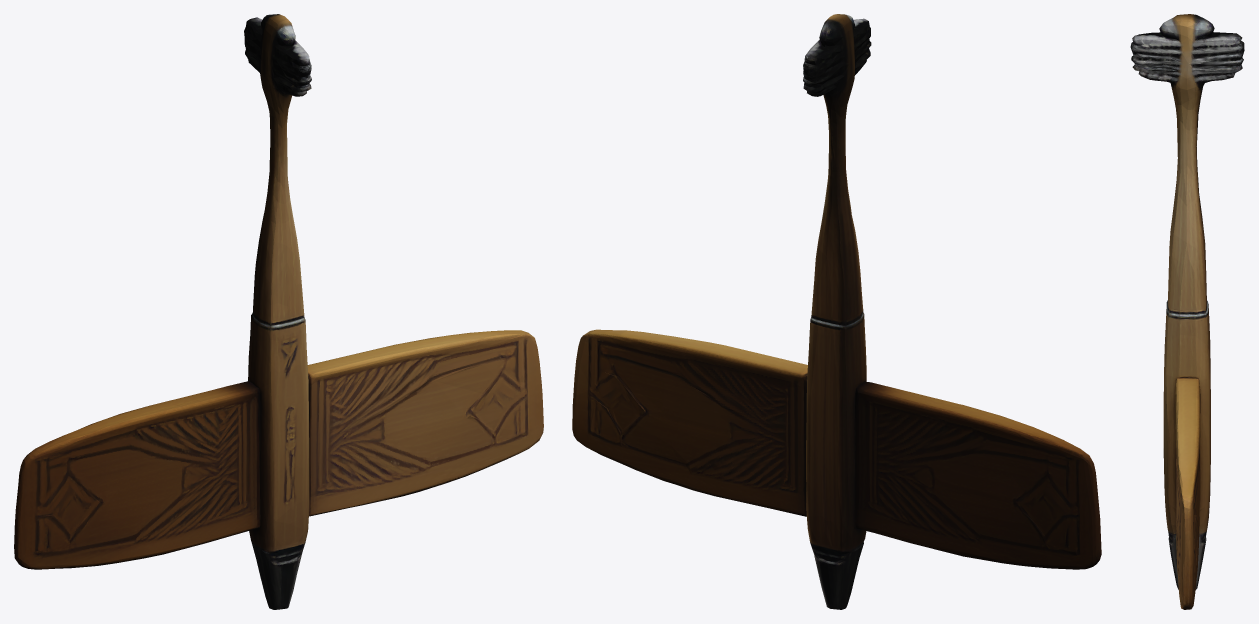
The model's file is bamboo-toothbrush-art-deco.jpeg.glb.
The picture shows the model from 3 angles, left to right: view 1: azimuth 30°, elevation 25°; view 2: azimuth 150°, elevation 25°; view 3: azimuth 270°, elevation 25°; orthographic projection. The views are drawn at different scales.
Visible parts, largest first — view 1: world; view 2: world; view 3: world.
Part boxes in pixels (<box>): world: <box>14,14,543,609</box>; world: <box>572,14,1101,609</box>; world: <box>1130,14,1244,609</box>.
Bounding box in the file's own units: 0.9368 × 1 × 0.1809.
1 material, 1 textured.
